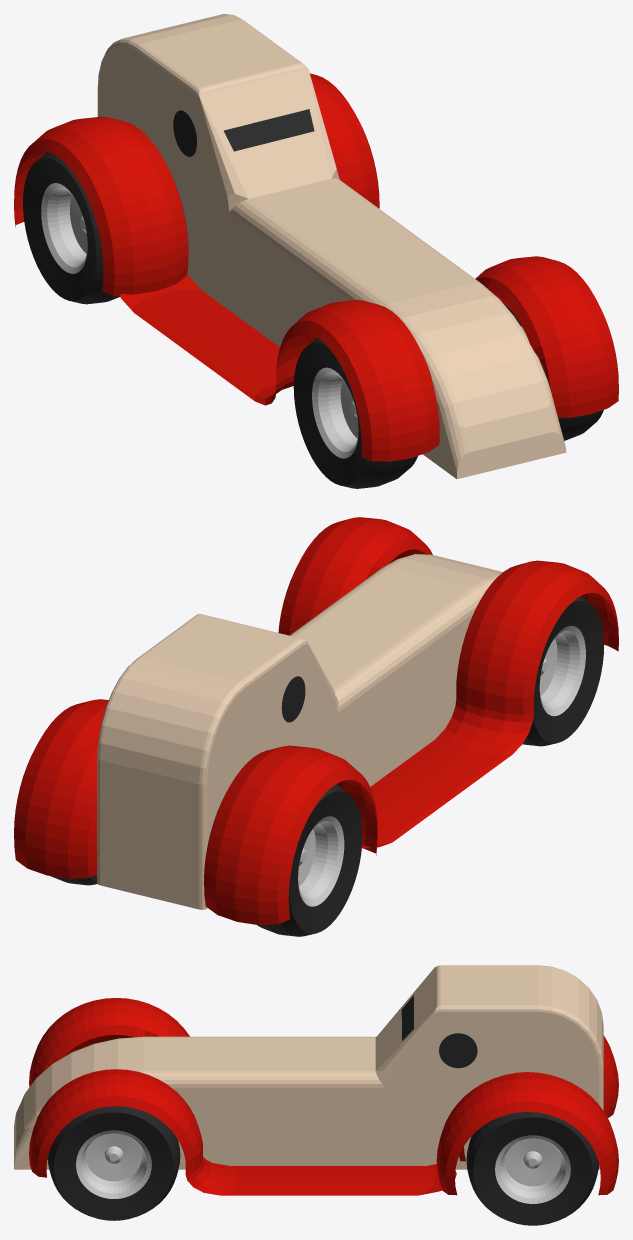
File: buggy.fbx
3 views of the same model, one above another, from view 1: azimuth 30°, elevation 25°; view 2: azimuth 150°, elevation 25°; view 3: azimuth 270°, elevation 25° (orthographic). The views are drawn at different scales.
Parts seen in each view (by area): view 1: Body, Right wheelhouse, Left Wheelhouse, RB Wheel, RF Wheel, LF Wheel; view 2: Body, Right wheelhouse, Left Wheelhouse, RB Wheel, RF Wheel; view 3: Body, Left Wheelhouse, LF Wheel, LB Wheel, Right wheelhouse.
Boxes of the visible parts, left/top/right/bottom form: Body: left=97, top=14, right=566, bottom=479; Right wheelhouse: left=14, top=116, right=439, bottom=461; Left Wheelhouse: left=310, top=73, right=618, bottom=417; RB Wheel: left=23, top=152, right=119, bottom=304; RF Wheel: left=293, top=337, right=417, bottom=488; LF Wheel: left=503, top=303, right=603, bottom=440; Body: left=97, top=554, right=502, bottom=909; Right wheelhouse: left=204, top=560, right=618, bottom=925; Left Wheelhouse: left=14, top=517, right=432, bottom=878; RB Wheel: left=257, top=784, right=362, bottom=936; RF Wheel: left=522, top=596, right=603, bottom=746; Body: left=14, top=965, right=603, bottom=1169; Left Wheelhouse: left=29, top=1069, right=618, bottom=1195; LF Wheel: left=47, top=1106, right=180, bottom=1220; LB Wheel: left=466, top=1112, right=598, bottom=1225; Right wheelhouse: left=29, top=998, right=618, bottom=1117.
Size of the model in its own units: 257 by 211 by 597.
